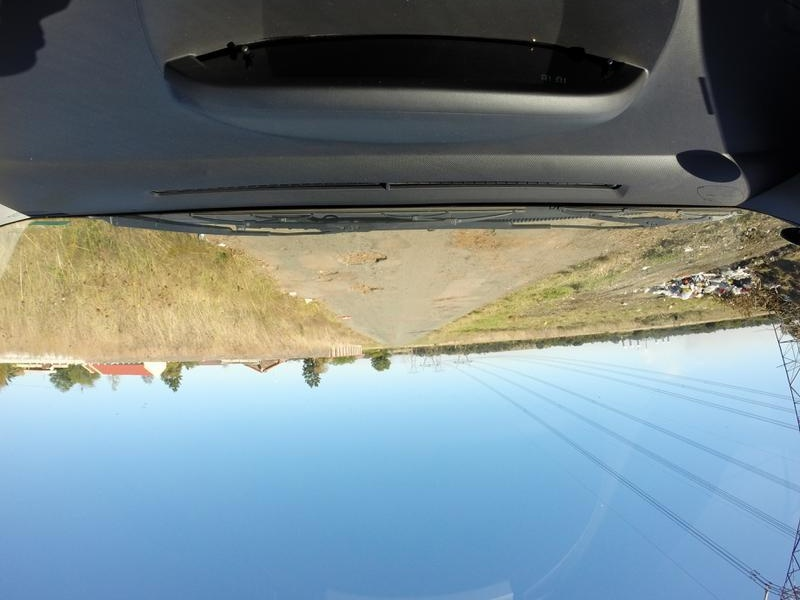pothole: (454, 230, 498, 256), (340, 253, 388, 267), (344, 279, 381, 296), (318, 277, 332, 287), (318, 270, 337, 277)
